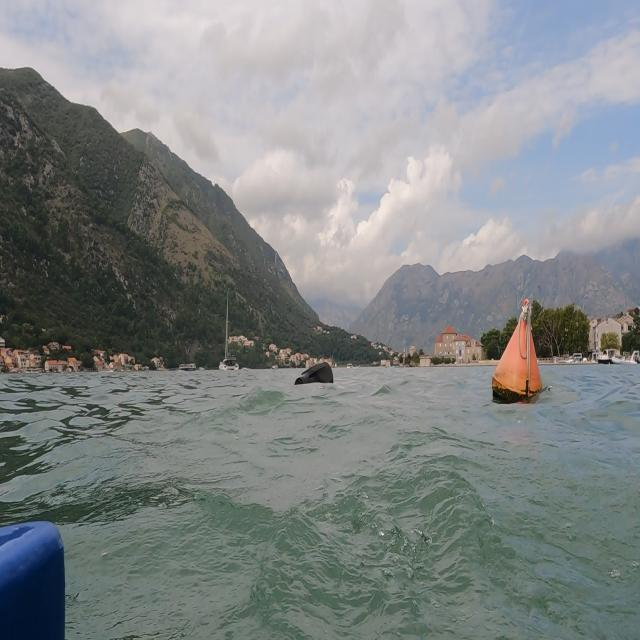boat: (490, 294, 546, 408), (218, 276, 246, 384)
buoy: (289, 354, 345, 404)
